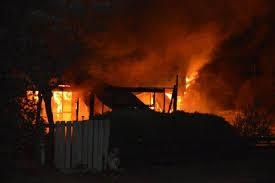fire: (141, 68, 204, 114), (24, 81, 86, 122)
